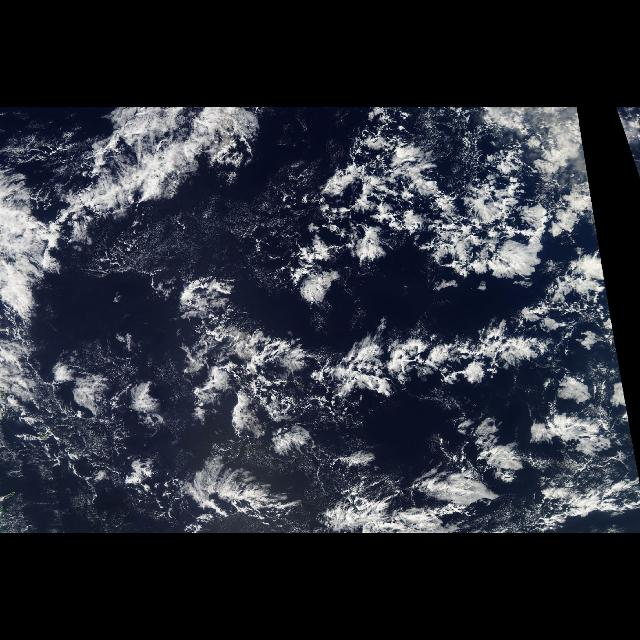Fish: (0, 108, 618, 412), (164, 452, 640, 534)
Flower: (46, 349, 320, 527)
Gravel: (266, 110, 606, 288)
Sugar: (0, 401, 160, 533)
